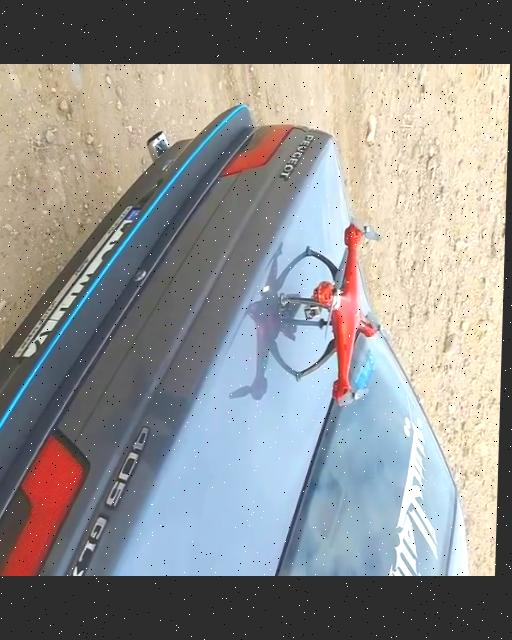drone: (278, 214, 392, 404)
